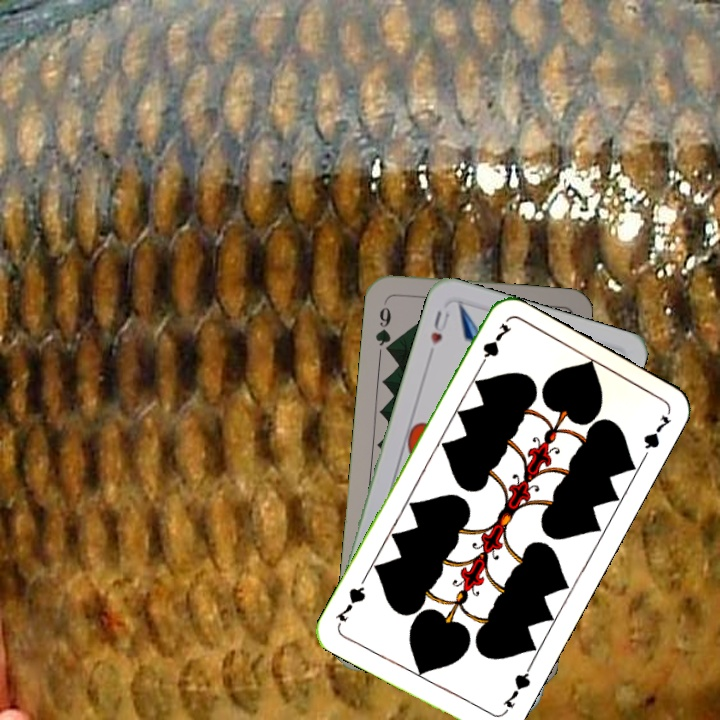G7: (474, 318, 515, 373), (498, 663, 534, 717)
G9: (372, 303, 395, 357)
HU: (426, 306, 453, 348)
